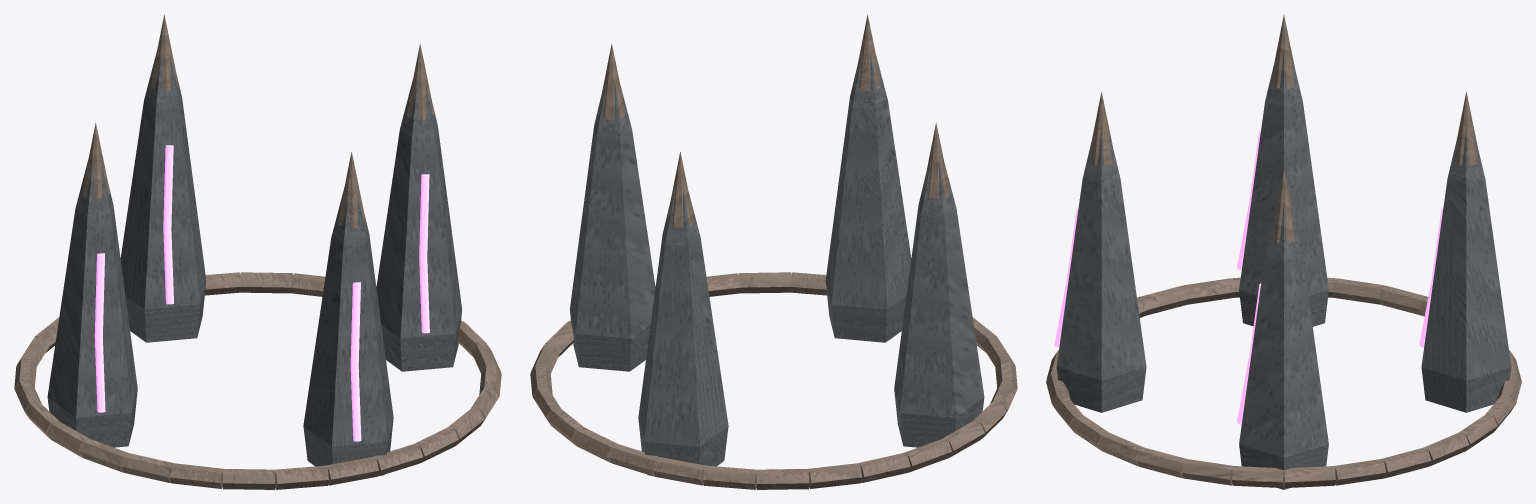
The model's file is rift_seal_obelisks.glb.
3 renders of one model, left to right at view 1: azimuth 30°, elevation 25°; view 2: azimuth 150°, elevation 25°; view 3: azimuth 270°, elevation 25°, orthographic. The views are drawn at different scales.
Visible parts, largest first — view 1: stone, bronze, glowviolet; view 2: stone, bronze; view 3: stone, bronze, glowviolet.
Part boxes in pixels (bbox=[...]): stone: bbox=[47, 49, 462, 475]; bronze: bbox=[14, 15, 501, 489]; glowviolet: bbox=[94, 145, 429, 441]; stone: bbox=[569, 49, 984, 475]; bronze: bbox=[530, 15, 1017, 489]; stone: bbox=[1056, 48, 1511, 489]; bronze: bbox=[1046, 15, 1521, 487]; glowviolet: bbox=[1054, 129, 1443, 424].
Bounding box in the file's own units: 5.74 × 4.04 × 5.74.
3 materials, 3 textured.
